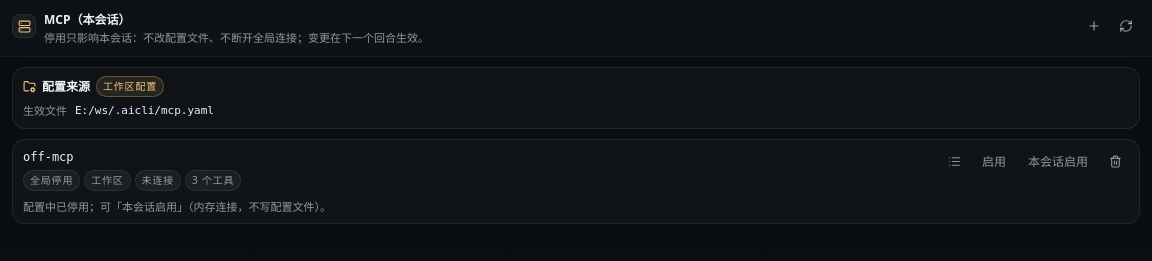
Scenario: SessionMcpSurface › temp-enables a configured-off server for this session only
This screenshot has width=1152, height=261.
Click the button with test id "session-mcp-toggle": coordinates (1058, 162) [1019, 148, 1097, 176]
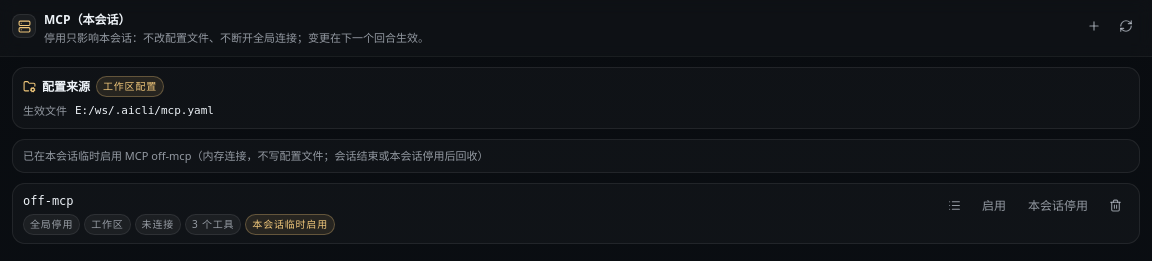
expect the text "已在本会话临时启用" is shown: met, box [23, 148, 488, 162]
expect the text with test id "session-mcp-temp-badge" reads "本会话临时启用": met, box [252, 216, 328, 230]
expect the button with test id "session-mcp-toggle" reads "本会话停用": met, box [1019, 192, 1097, 220]
